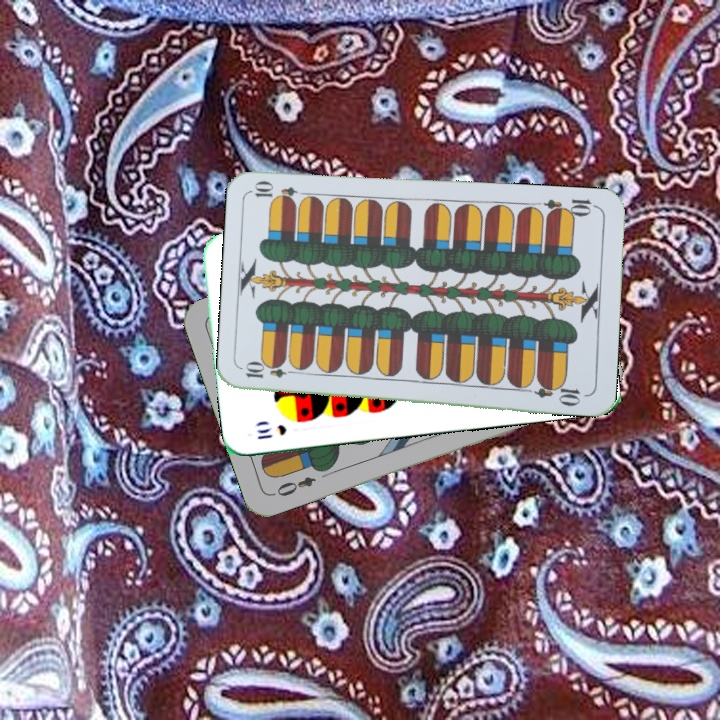E10: (541, 195, 600, 221), (241, 362, 300, 381)
EO: (268, 472, 319, 499)
S10: (253, 421, 289, 442)
